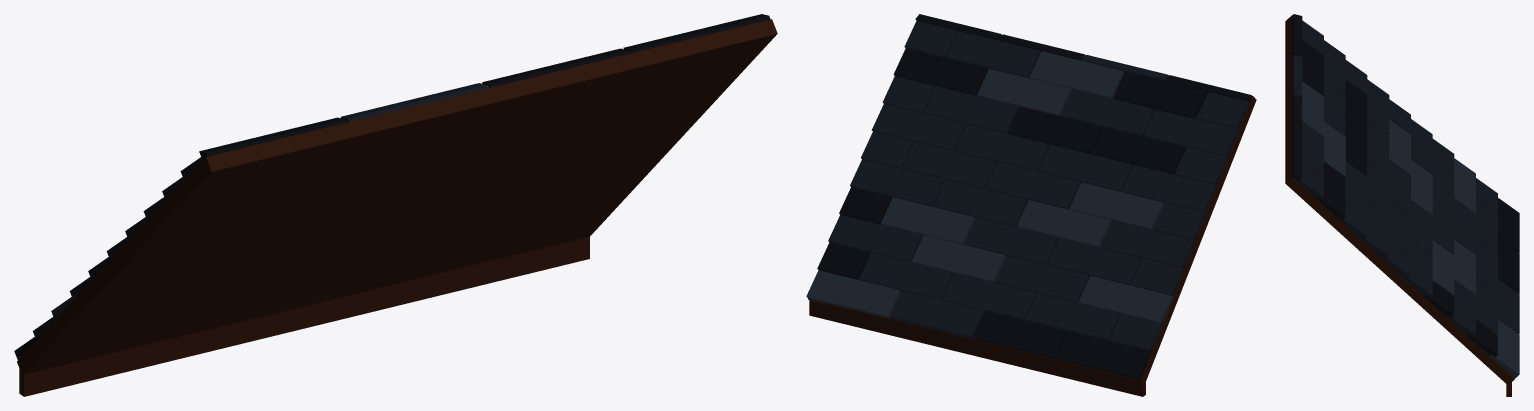
File: SM_Bld_Roof_Slate_4m.glb
3 views of the same model, side by side, from view 1: azimuth 30°, elevation 25°; view 2: azimuth 150°, elevation 25°; view 3: azimuth 270°, elevation 25° (orthographic). The views are drawn at different scales.
Parts seen in each view (by area): view 1: SM_Bld_Roof_Slate_4m; view 2: SM_Bld_Roof_Slate_4m; view 3: SM_Bld_Roof_Slate_4m.
Part boxes in pixels (box(x1,y1,x2,y2)): SM_Bld_Roof_Slate_4m: box(14, 14, 777, 396); SM_Bld_Roof_Slate_4m: box(806, 14, 1256, 396); SM_Bld_Roof_Slate_4m: box(1285, 14, 1519, 396).
Size of the model in its own units: 4 by 2.54 by 2.44.
1 material, 1 textured.
